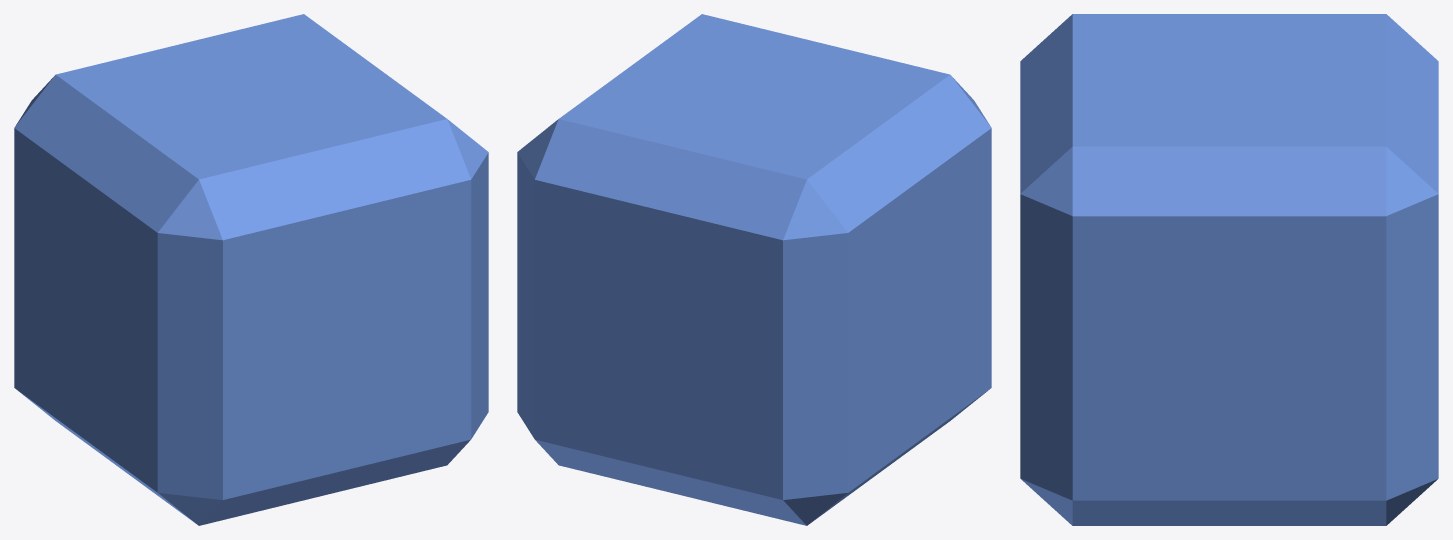
Rendered from Purple.fbx.
3 renders of one model, left to right at view 1: azimuth 30°, elevation 25°; view 2: azimuth 150°, elevation 25°; view 3: azimuth 270°, elevation 25°, orthographic. The views are drawn at different scales.
Parts seen in each view (by area): view 1: Purple; view 2: Purple; view 3: Purple.
Boxes of the visible parts, x1,y1,x2,y2 form: Purple: [14, 14, 488, 525]; Purple: [517, 14, 991, 525]; Purple: [1020, 14, 1438, 525].
Size of the model in its own units: 200 by 200 by 200.
